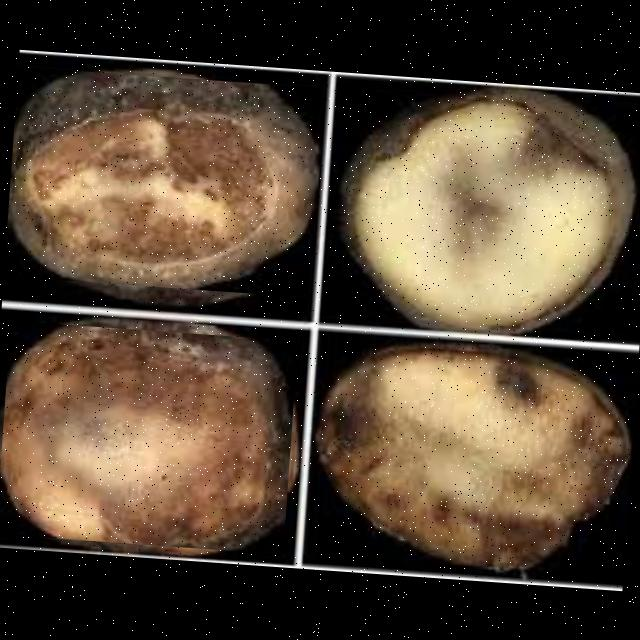Diseased-fungal potato: (323, 81, 640, 345), (7, 66, 324, 298), (0, 320, 296, 554), (316, 344, 630, 562)
